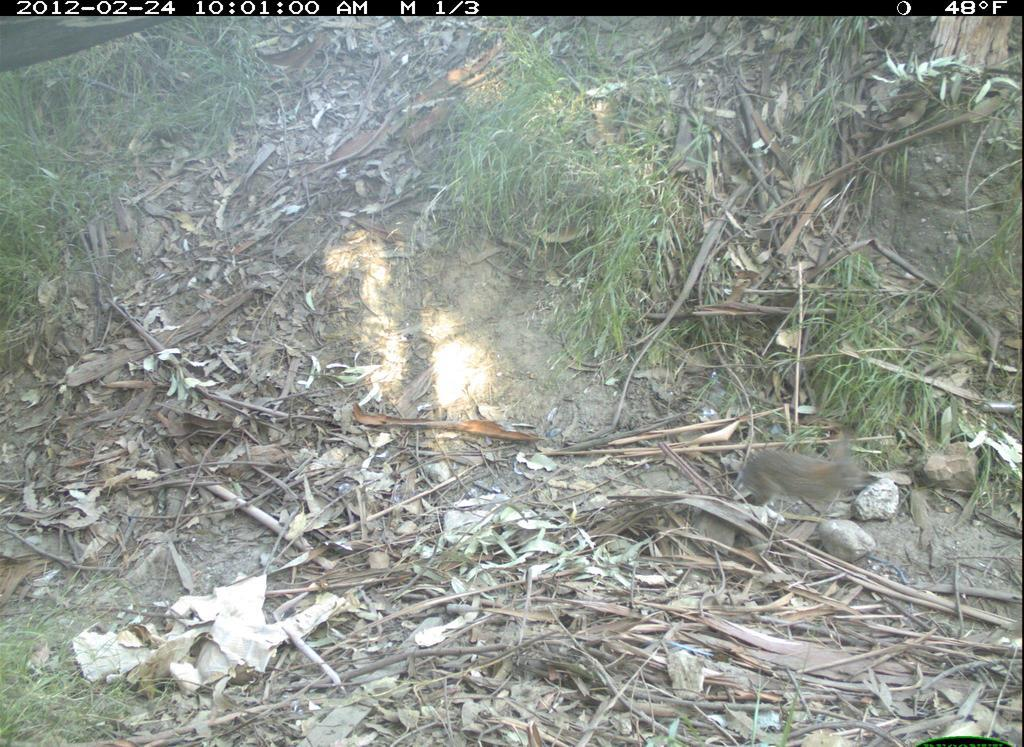rabbit: (699, 420, 900, 561)
